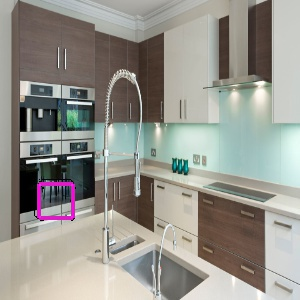square: (35, 179, 77, 223)
